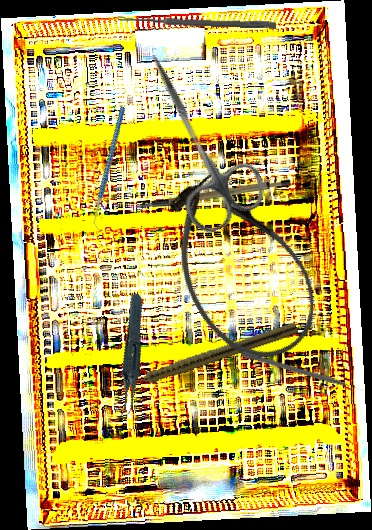Cannula: (141, 155, 337, 380)
Chopper: (57, 105, 164, 232)
Handpiece: (125, 318, 299, 392)
Iris Scissors: (114, 37, 274, 239)
Pusher: (239, 350, 366, 395)
Scalpel Handle: (133, 176, 292, 210)
Surgical Spoon: (117, 15, 277, 29)
Tissue Forceps: (91, 292, 168, 423)
